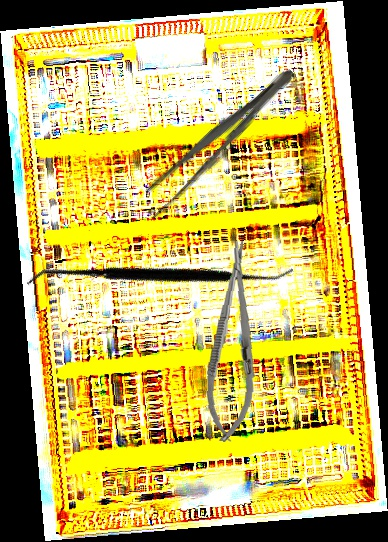Dressing Forceps: (134, 59, 303, 224)
Needle Holder: (202, 239, 265, 444)
Spatula Surgical: (25, 157, 296, 398)
